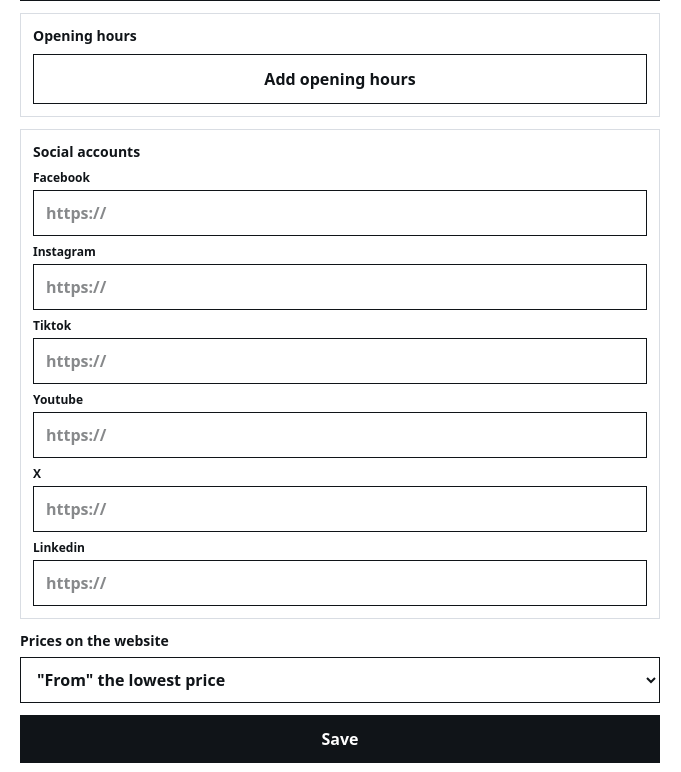
the website editor › tells the owner plainly when someone else saved first
(page scrolled)
Click the button "Save" at (340, 739), box [20,715,660,763]
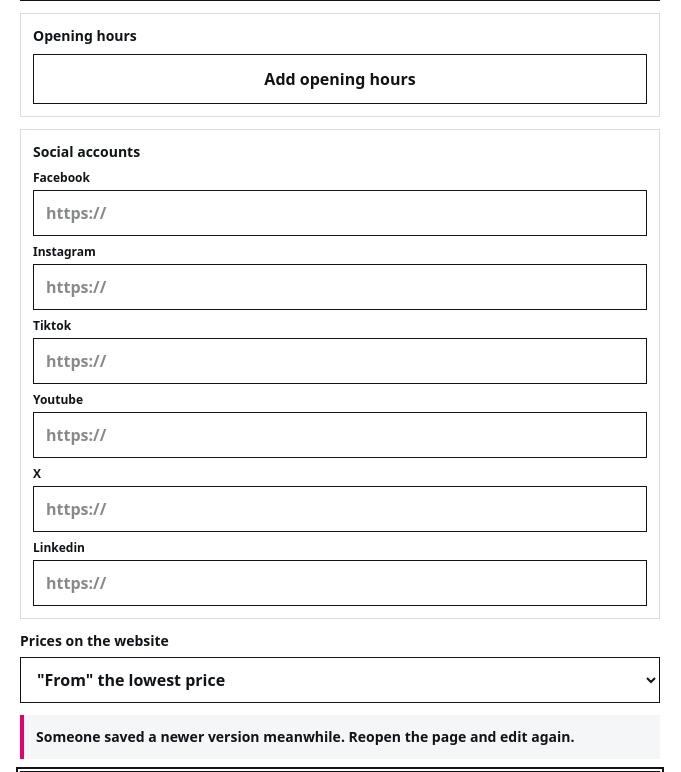
expect the message reads "Someone saved a newer version meanwhile. Reopen the page and edit again.": met, box [36,727,574,746]
